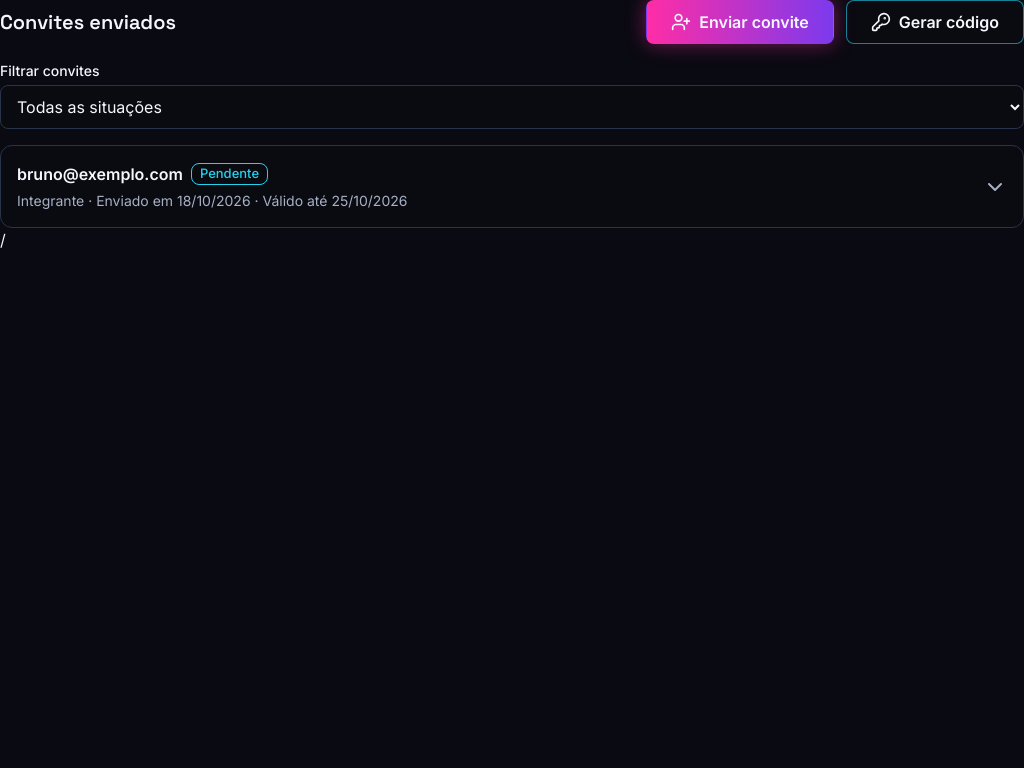
Test case: SentInvitesPanel (FAM-005, D-FAM-009) › Enviar convite (modal) › limite de emissao mostra o tempo de espera
Expected: the text "bruno@exemplo.com" is shown, x1=17 y1=164 x2=183 y2=184
Click the button "Enviar convite". click: (740, 22)
box: x1=646 y1=0 x2=834 y2=44
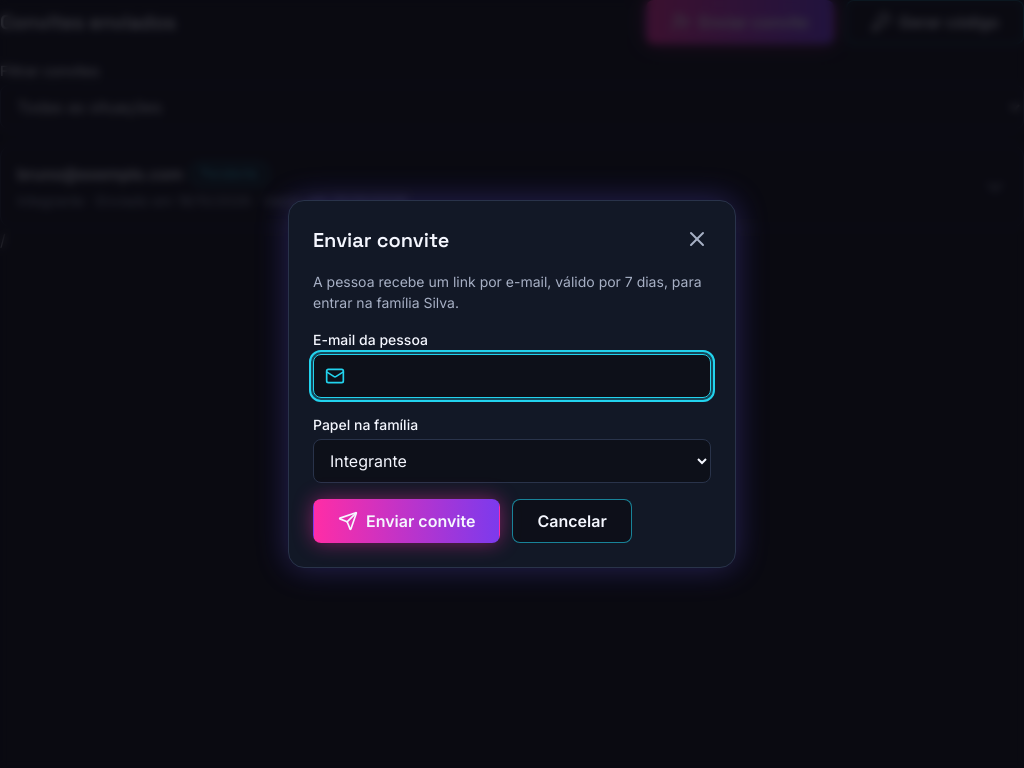
Type "novo@exemplo.com" into the field labelled "E-mail da pessoa". click: (512, 376)
box: x1=313 y1=354 x2=711 y2=398
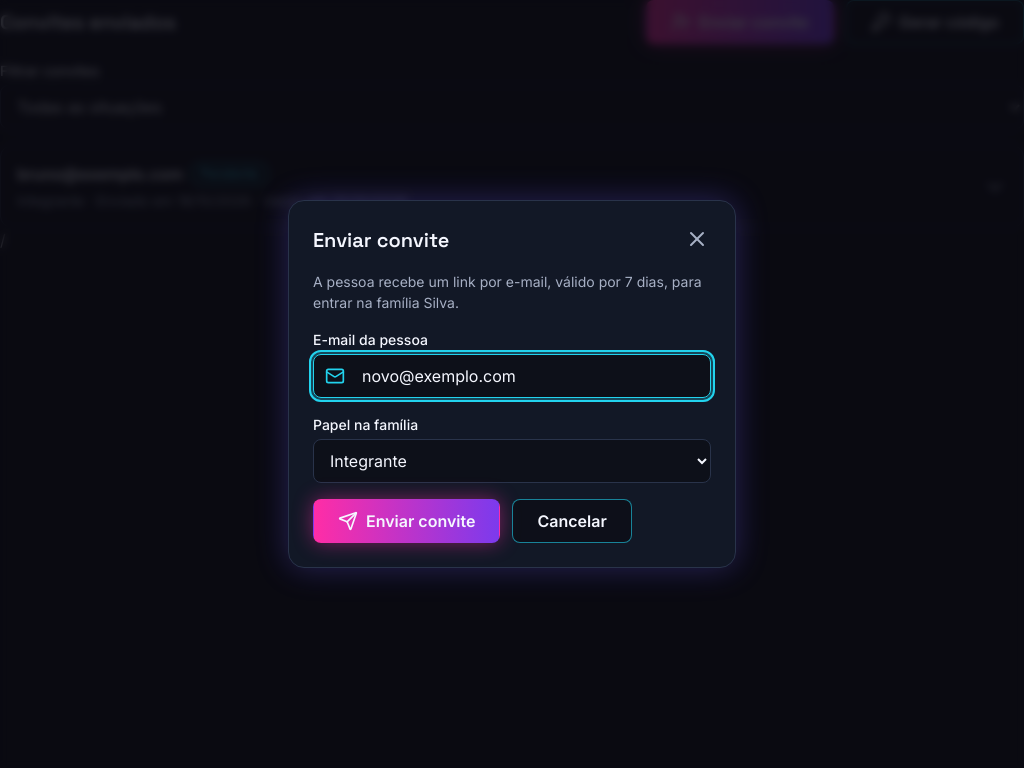
Click the button "Enviar convite". click: (407, 521)
box: x1=313 y1=499 x2=500 y2=543
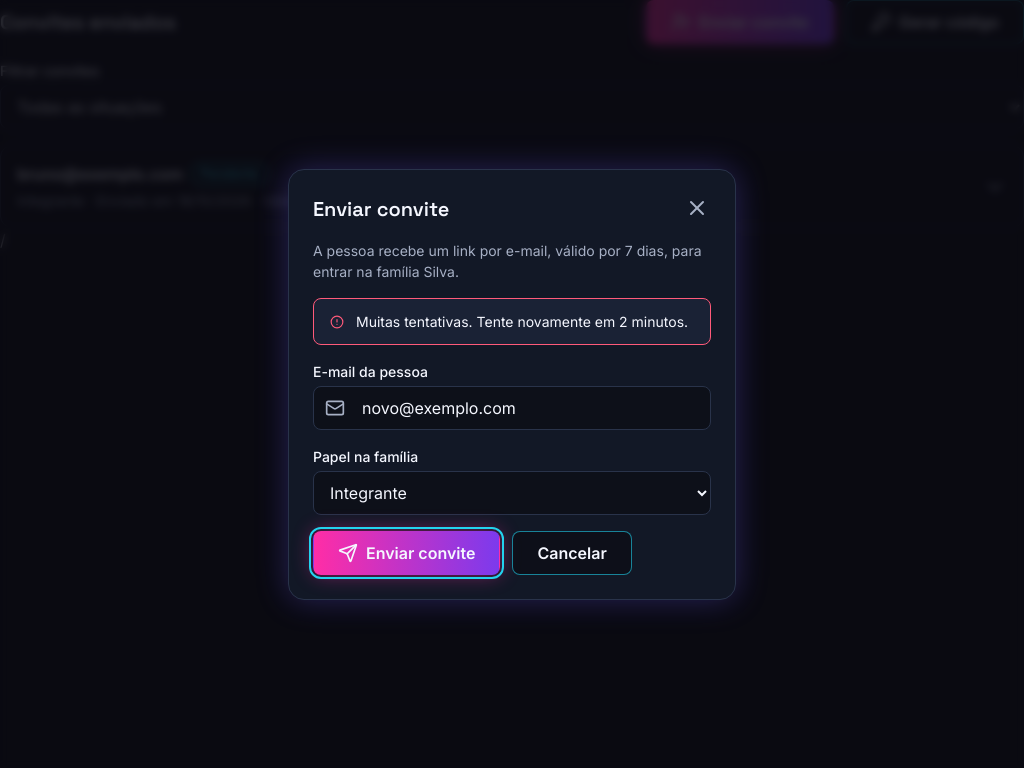
Expected: the message shows "Tente novamente em 2 minutos", x1=356 y1=312 x2=688 y2=330
